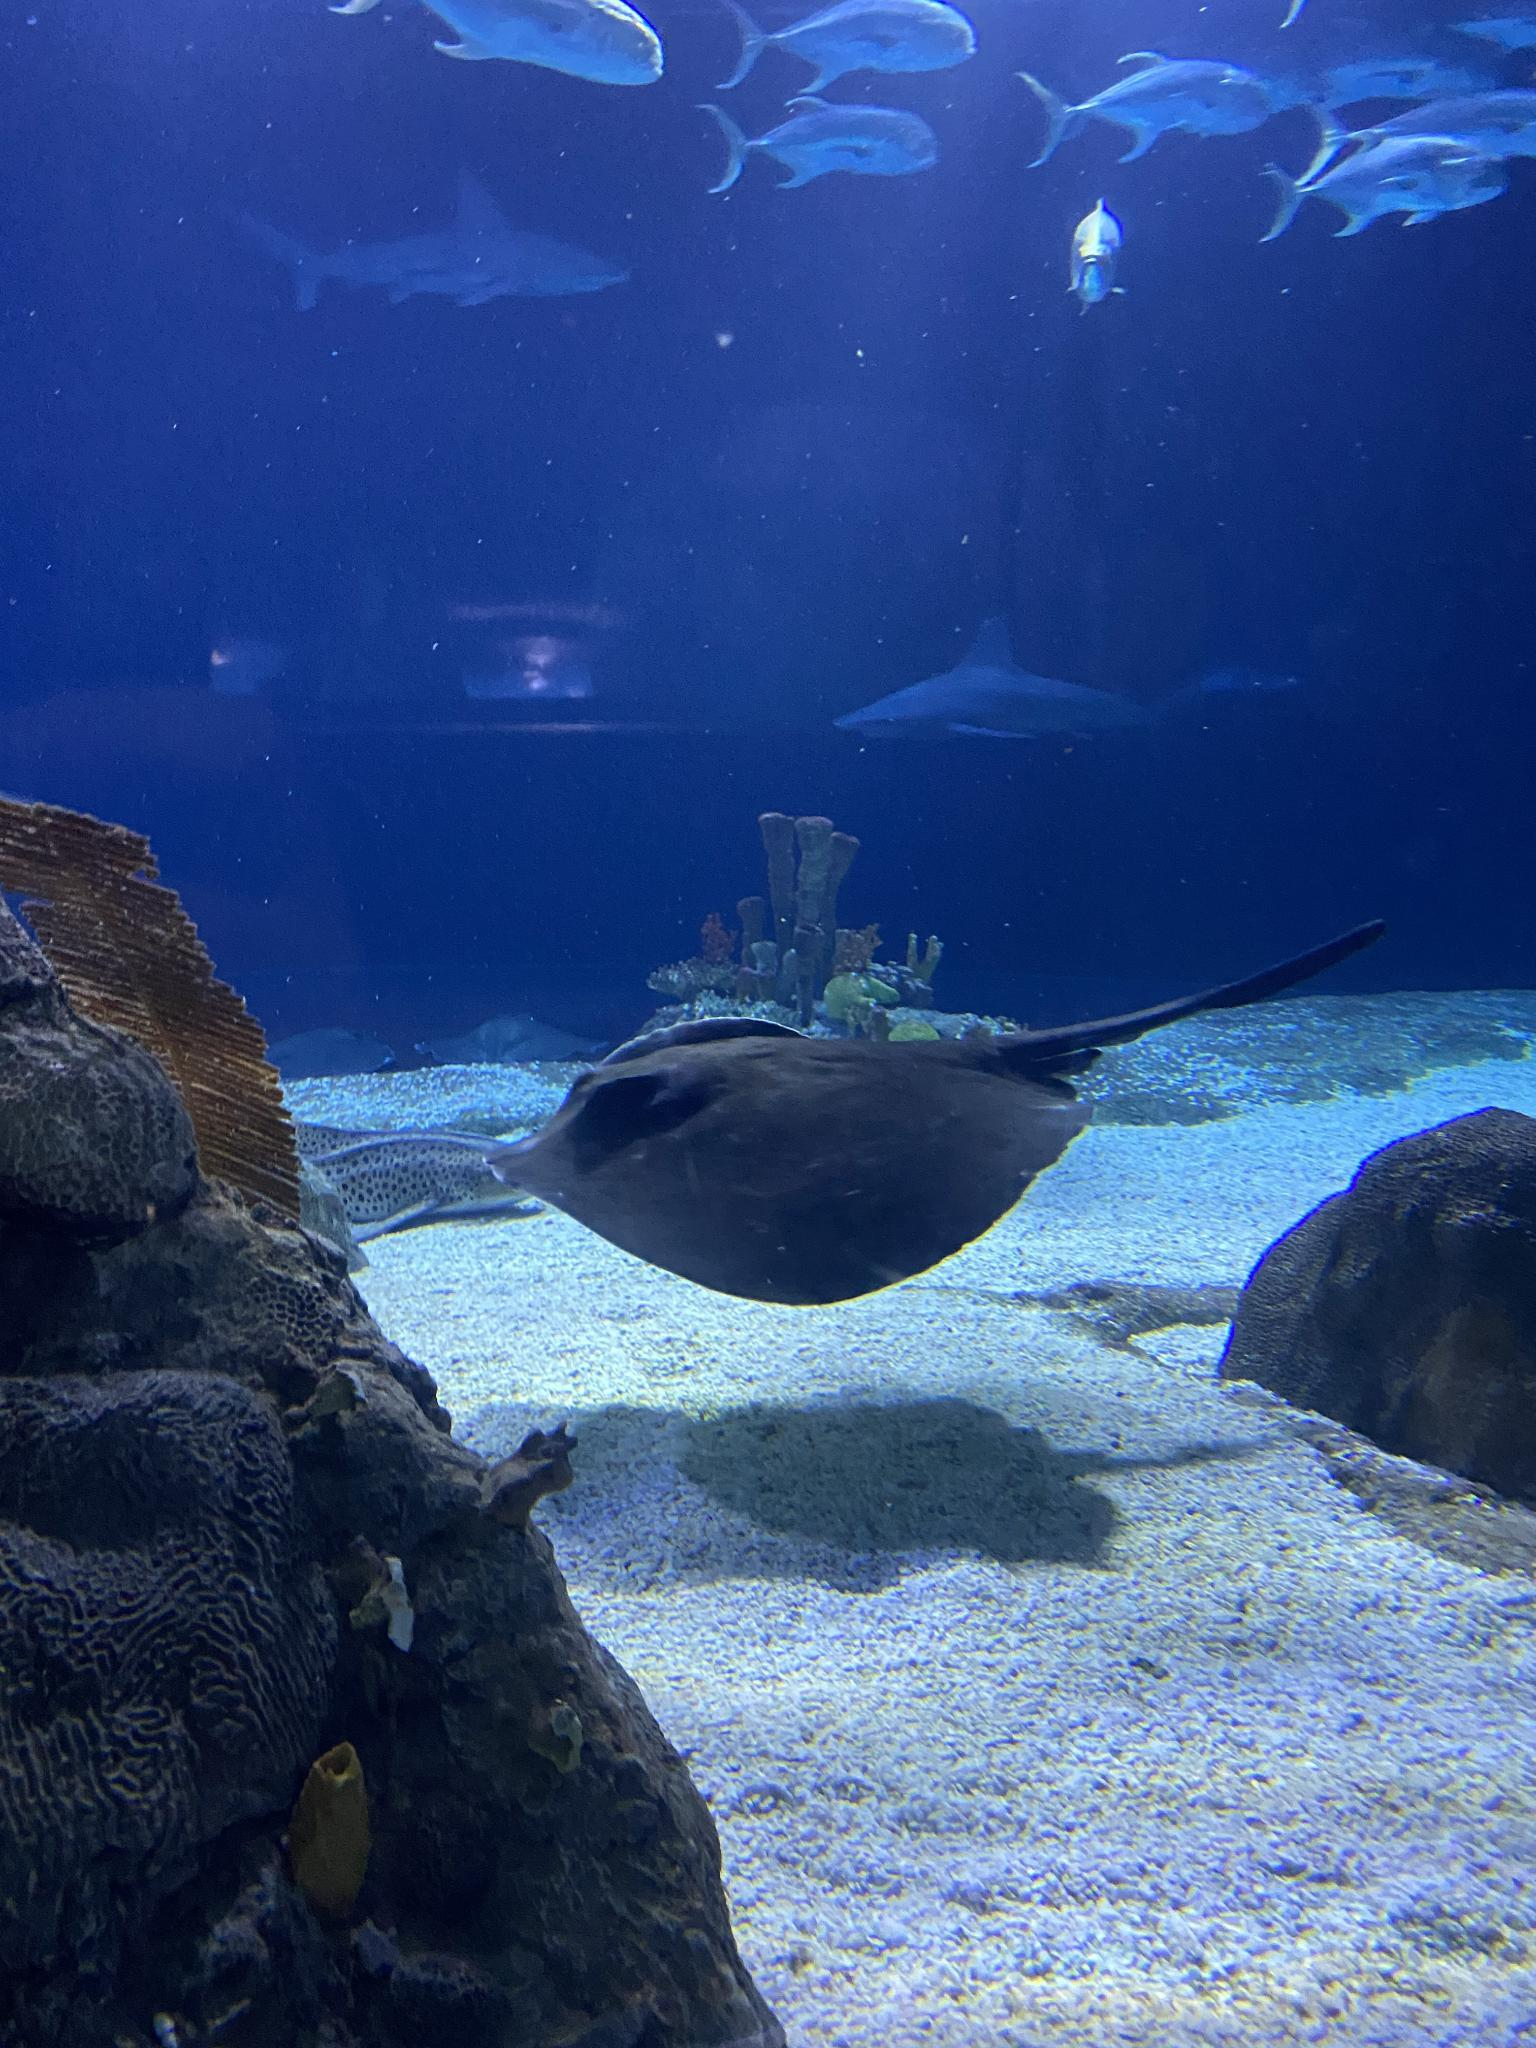fish: (331, 0, 665, 89), (1018, 53, 1275, 164), (703, 97, 936, 198), (723, 0, 978, 84), (1304, 98, 1534, 185), (1262, 156, 1502, 239), (1263, 35, 1504, 114), (1413, 0, 1536, 58), (1068, 198, 1125, 306)
shark: (245, 168, 632, 310), (842, 619, 1183, 748), (265, 1114, 542, 1240)
stingray: (482, 1019, 1096, 1305)
